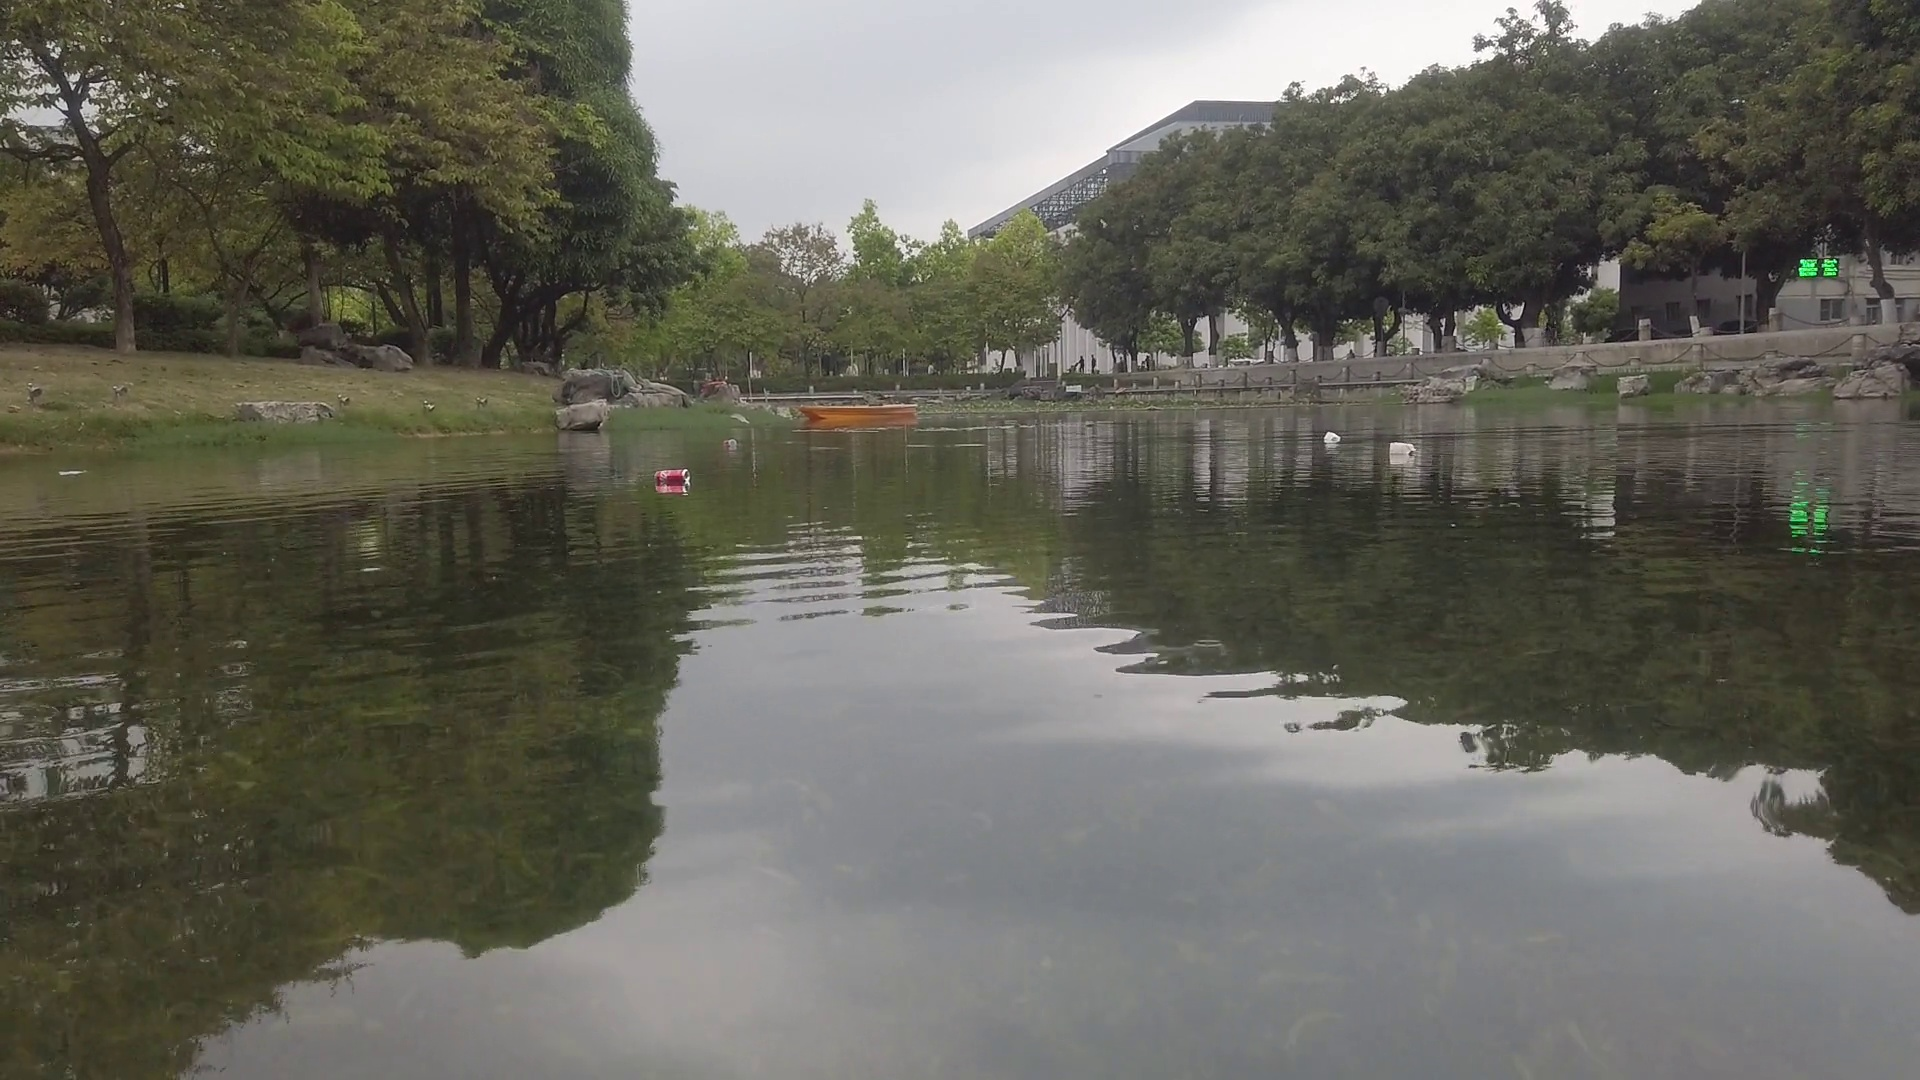bottle: (653, 468, 691, 481), (723, 438, 737, 447)
carton: (1389, 440, 1418, 456), (1323, 431, 1340, 442)
paper: (55, 464, 84, 477)
